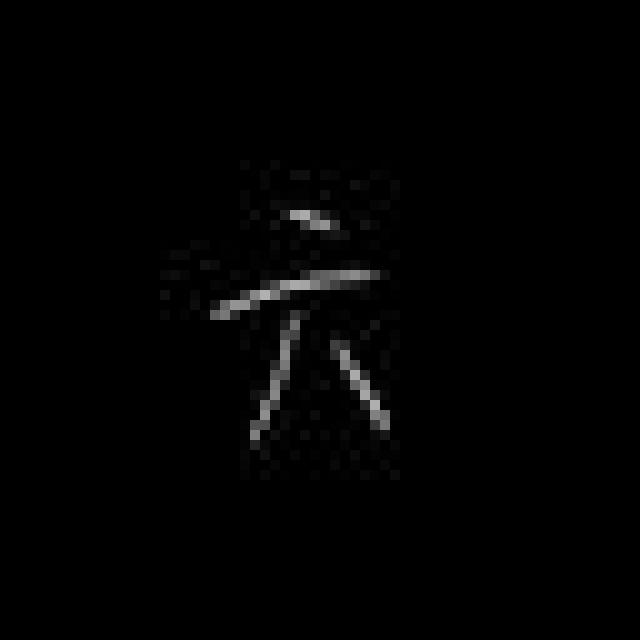6 -six-: (194, 198, 404, 450)
